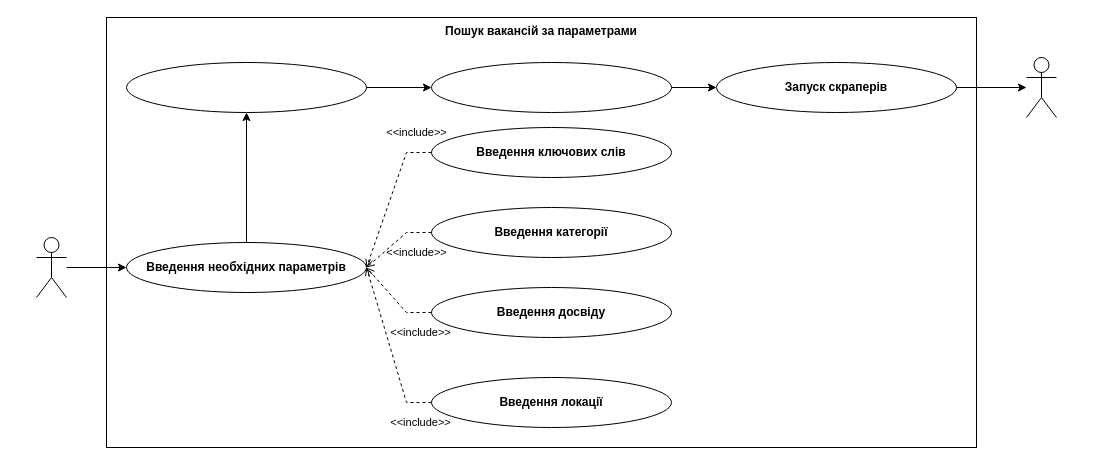
This 1117x465 diagram has some shape labels left out. The shapes that lost their labels are listed below. From the top down, each one's centre as x and y in pixels, then its label:
point 246,87: Натиснення кнопки "Search"
point 551,87: Звернення до серверу
point 1041,87: Сайти з вакансіями
point 51,267: Користувач
